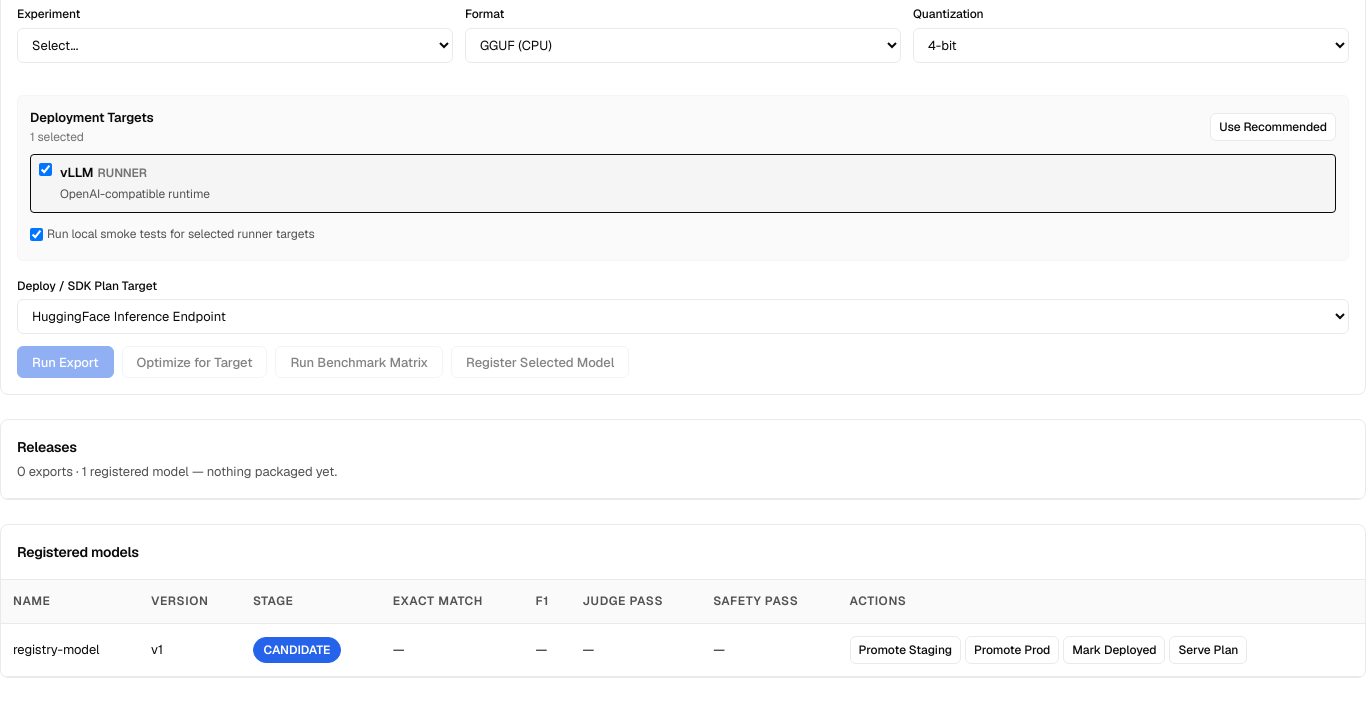
it: ExportPanel serve run flow › starts and stops a local serve run from registry serve plan
The width and height of the screenshot is (1366, 722).
Click the button "Serve Plan". click: click(1208, 650)
box: x1=1169 y1=636 x2=1247 y2=664
(page scrolled)
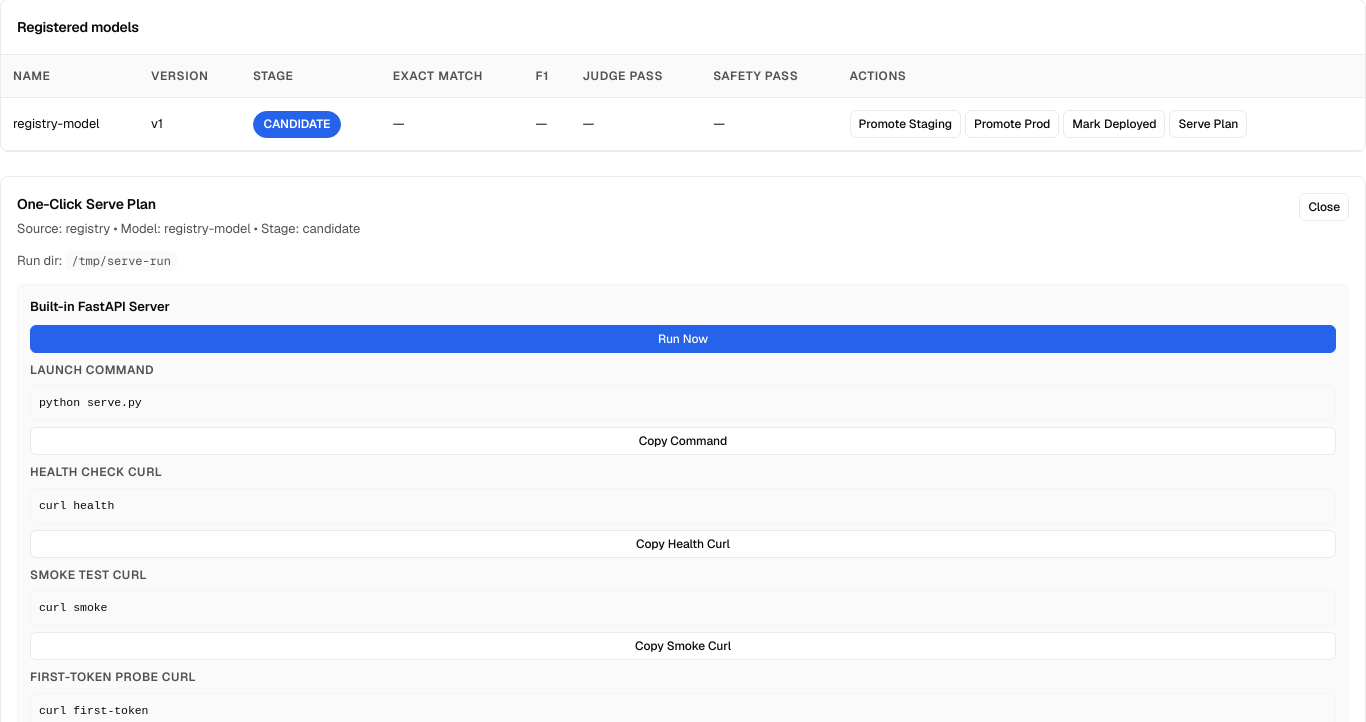
Expected: the heading "One-Click Serve Plan" is shown, x1=17 y1=195 x2=156 y2=213
Expected: the text "First-Token Probe Curl" is shown, x1=30 y1=669 x2=196 y2=685
Click the button "Run Now". click: click(683, 339)
box: x1=30 y1=325 x2=1336 y2=353
(page scrolled)
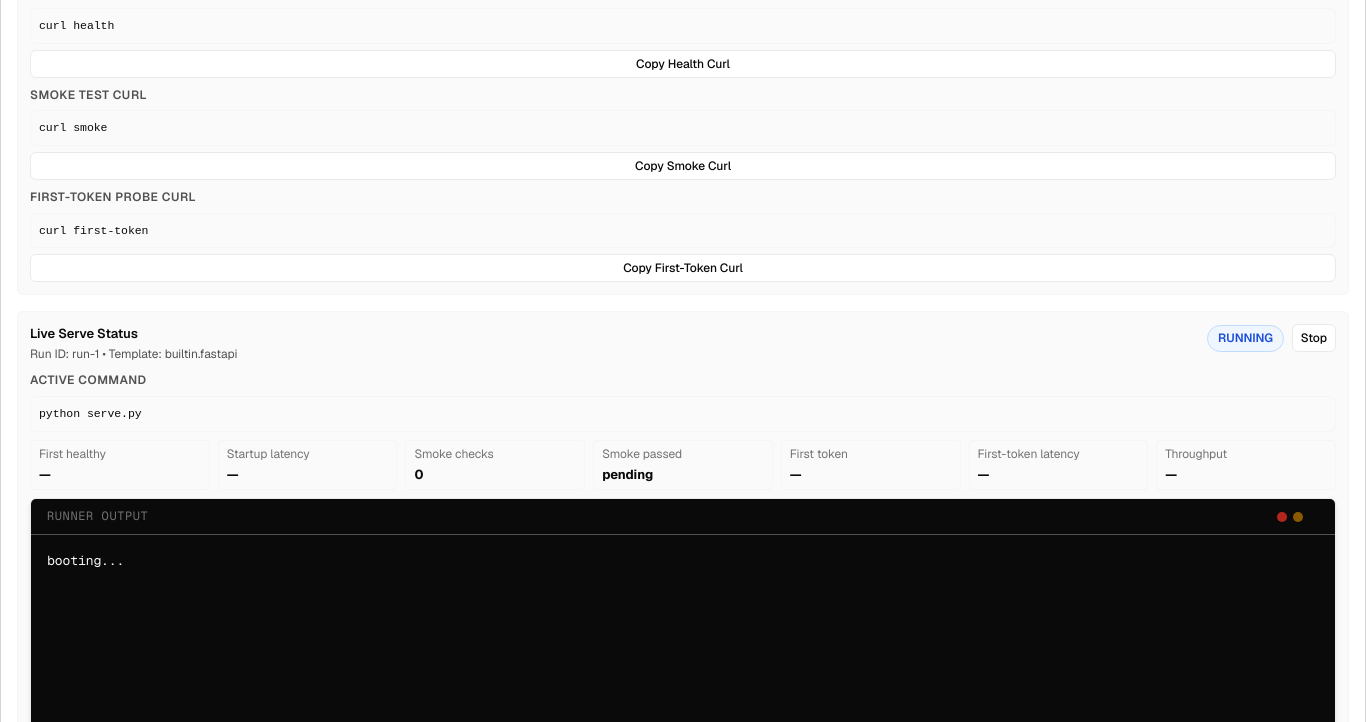
Expected: the text "Live Serve Status" is shown, x1=30 y1=326 x2=138 y2=342
Expected: the text "Throughput" is shown, x1=1165 y1=446 x2=1227 y2=462
Click the button "Stop". click: click(1314, 338)
box: x1=1292 y1=324 x2=1336 y2=352
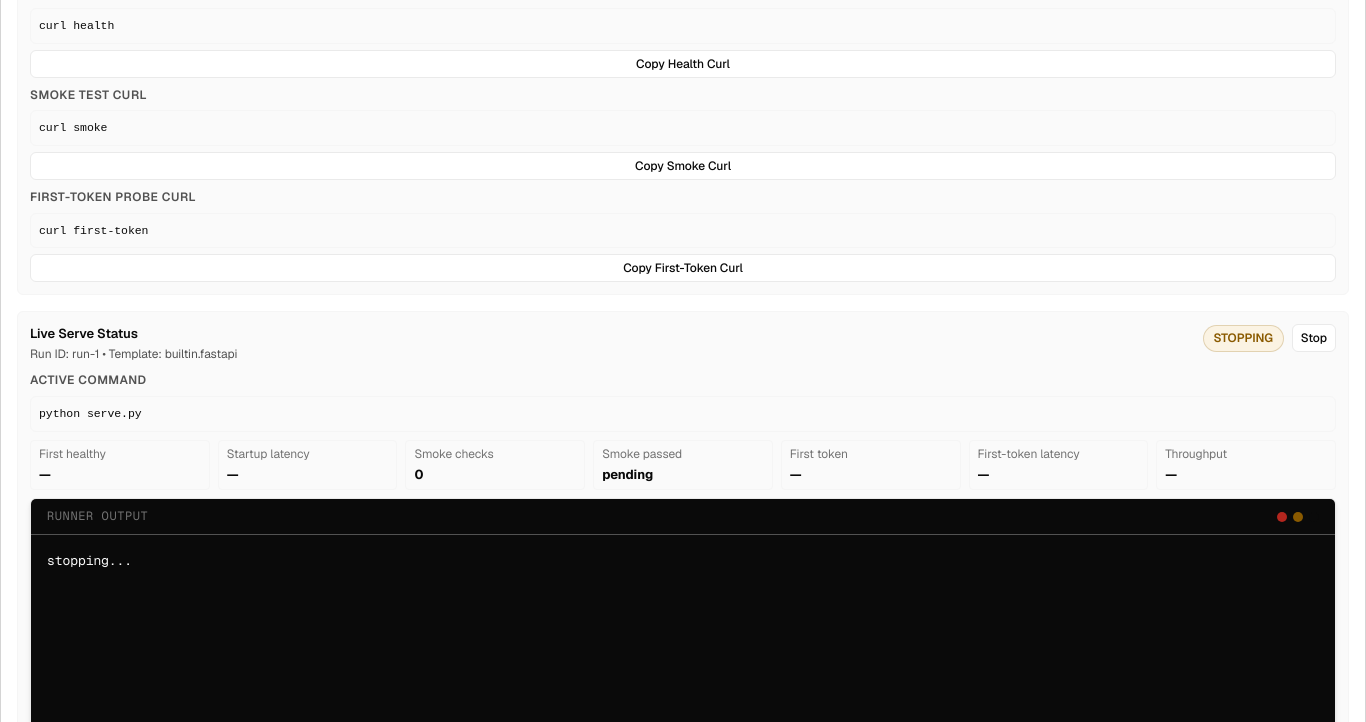
Expected: the text "stopping" is shown, x1=1203 y1=325 x2=1284 y2=352
